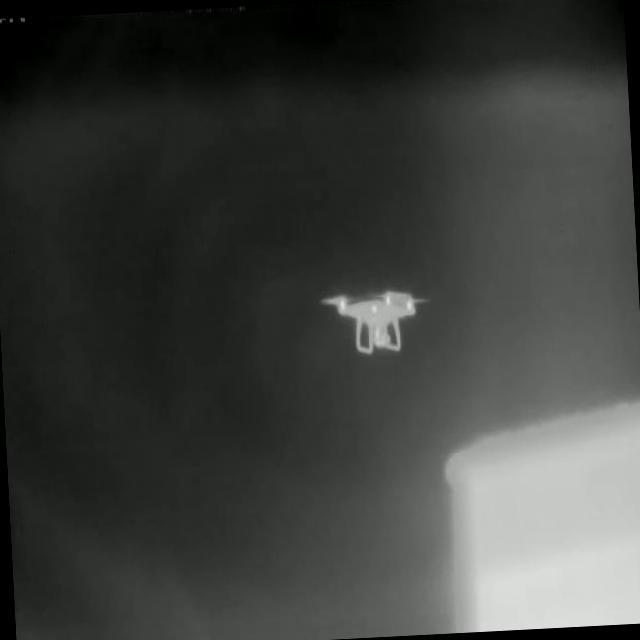DRONE: (321, 287, 435, 354)
